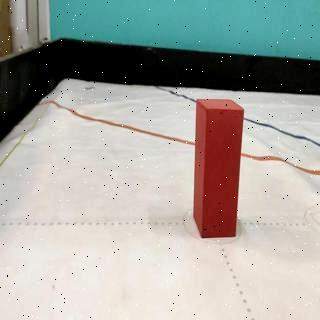redbox: (192, 97, 243, 238)
